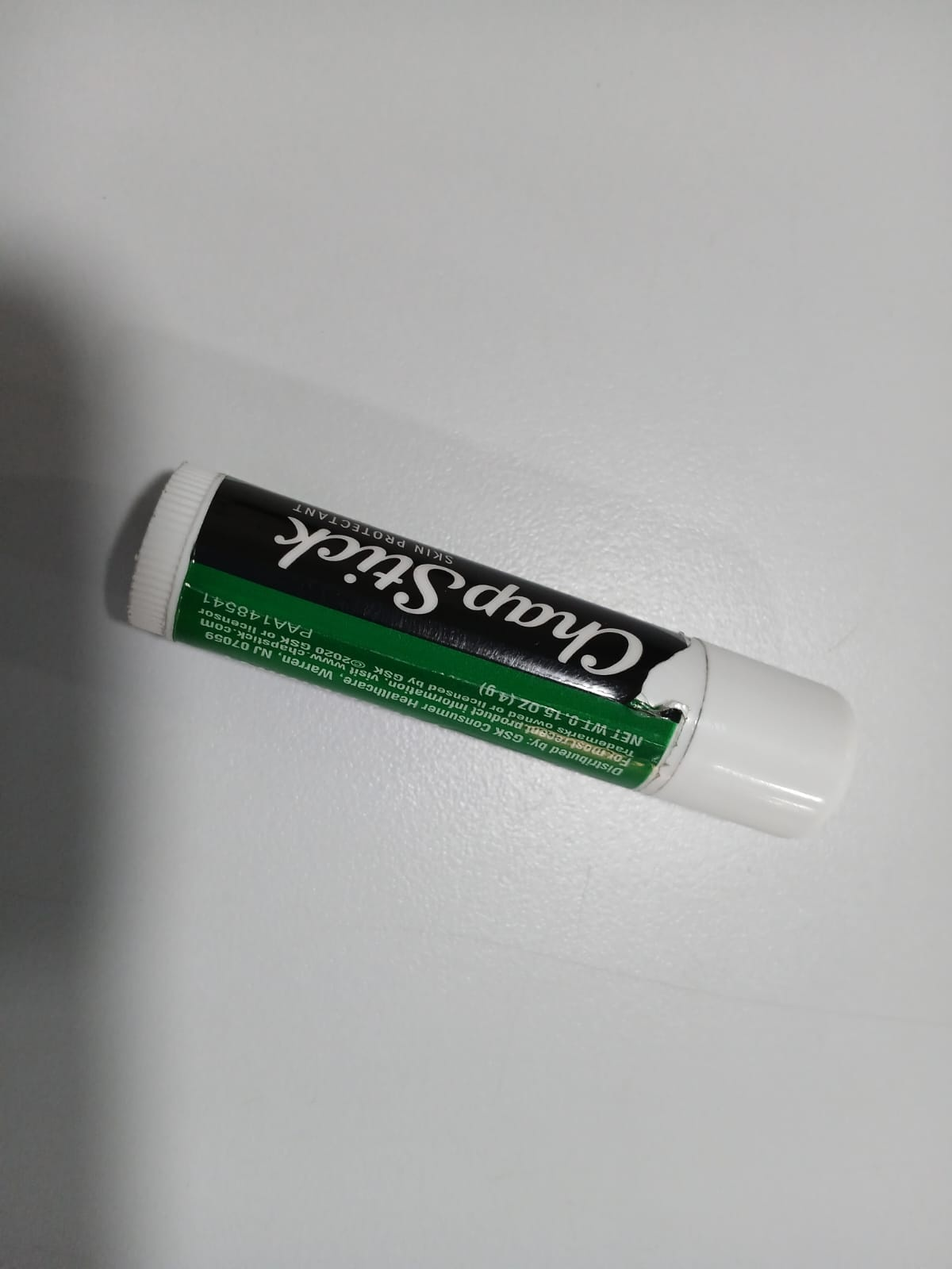Ordinario: (124, 464, 855, 839)
